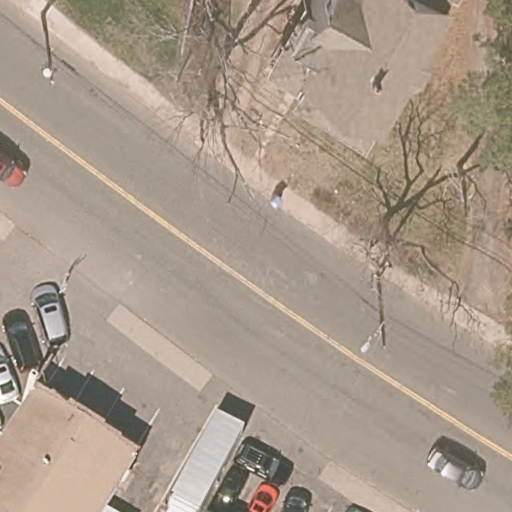DT: (359, 275, 389, 356), (39, 12, 60, 84)
